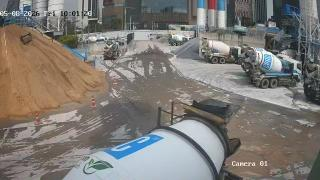cement_mixer_truck: (59, 104, 244, 180), (248, 56, 301, 88), (200, 35, 241, 62), (303, 60, 320, 106), (252, 47, 294, 59), (267, 45, 301, 57), (169, 33, 195, 46), (104, 38, 120, 59), (248, 44, 268, 52), (94, 36, 106, 44)
